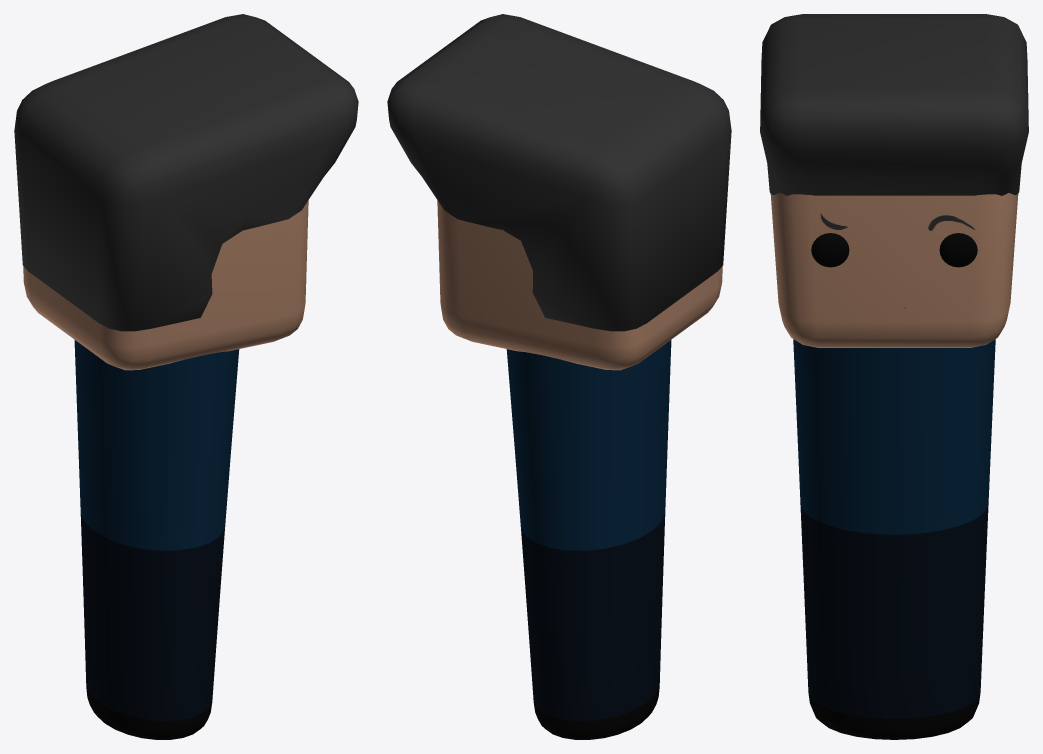
The model's file is Teen.FBX.
The picture shows the model from 3 angles, left to right: view 1: azimuth 30°, elevation 25°; view 2: azimuth 150°, elevation 25°; view 3: azimuth 270°, elevation 25°; orthographic projection. The views are drawn at different scales.
Parts seen in each view (by area): view 1: Teen; view 2: Teen; view 3: Teen.
Part boxes in pixels (x1,y1,x2,y2): Teen: (14,14,358,739); Teen: (387,14,731,739); Teen: (760,14,1028,739).
Size of the model in its own units: 75.12 by 180 by 62.99.
